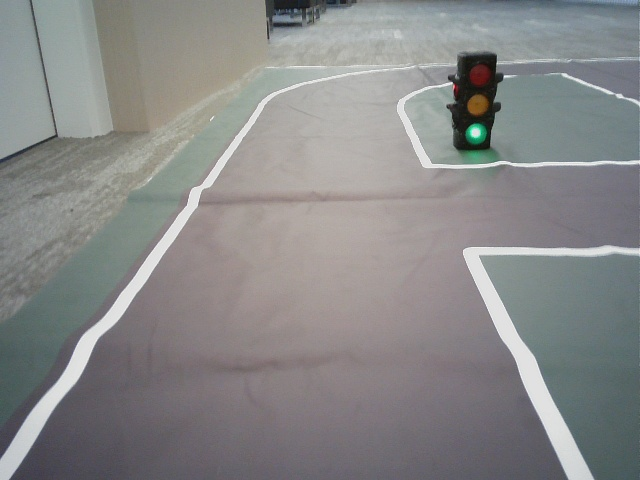green: (461, 57, 493, 146)
